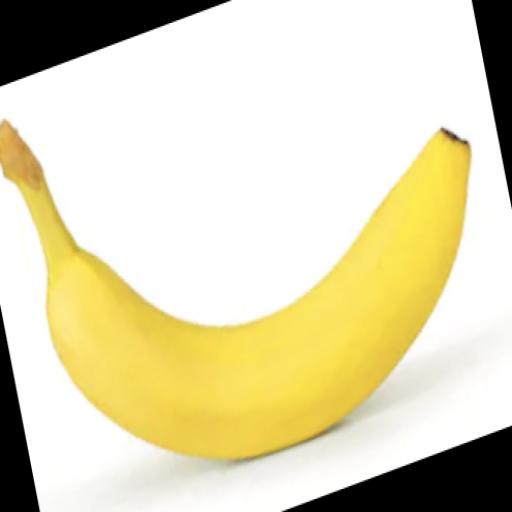banana-ripe: (0, 42, 495, 467)
